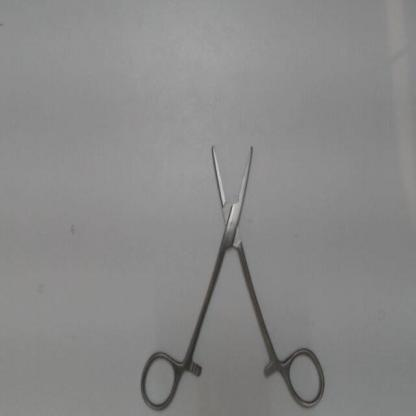Mayo Needle Holder: (136, 134, 332, 412)
